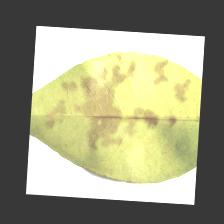black spot: (62, 62, 197, 152)
